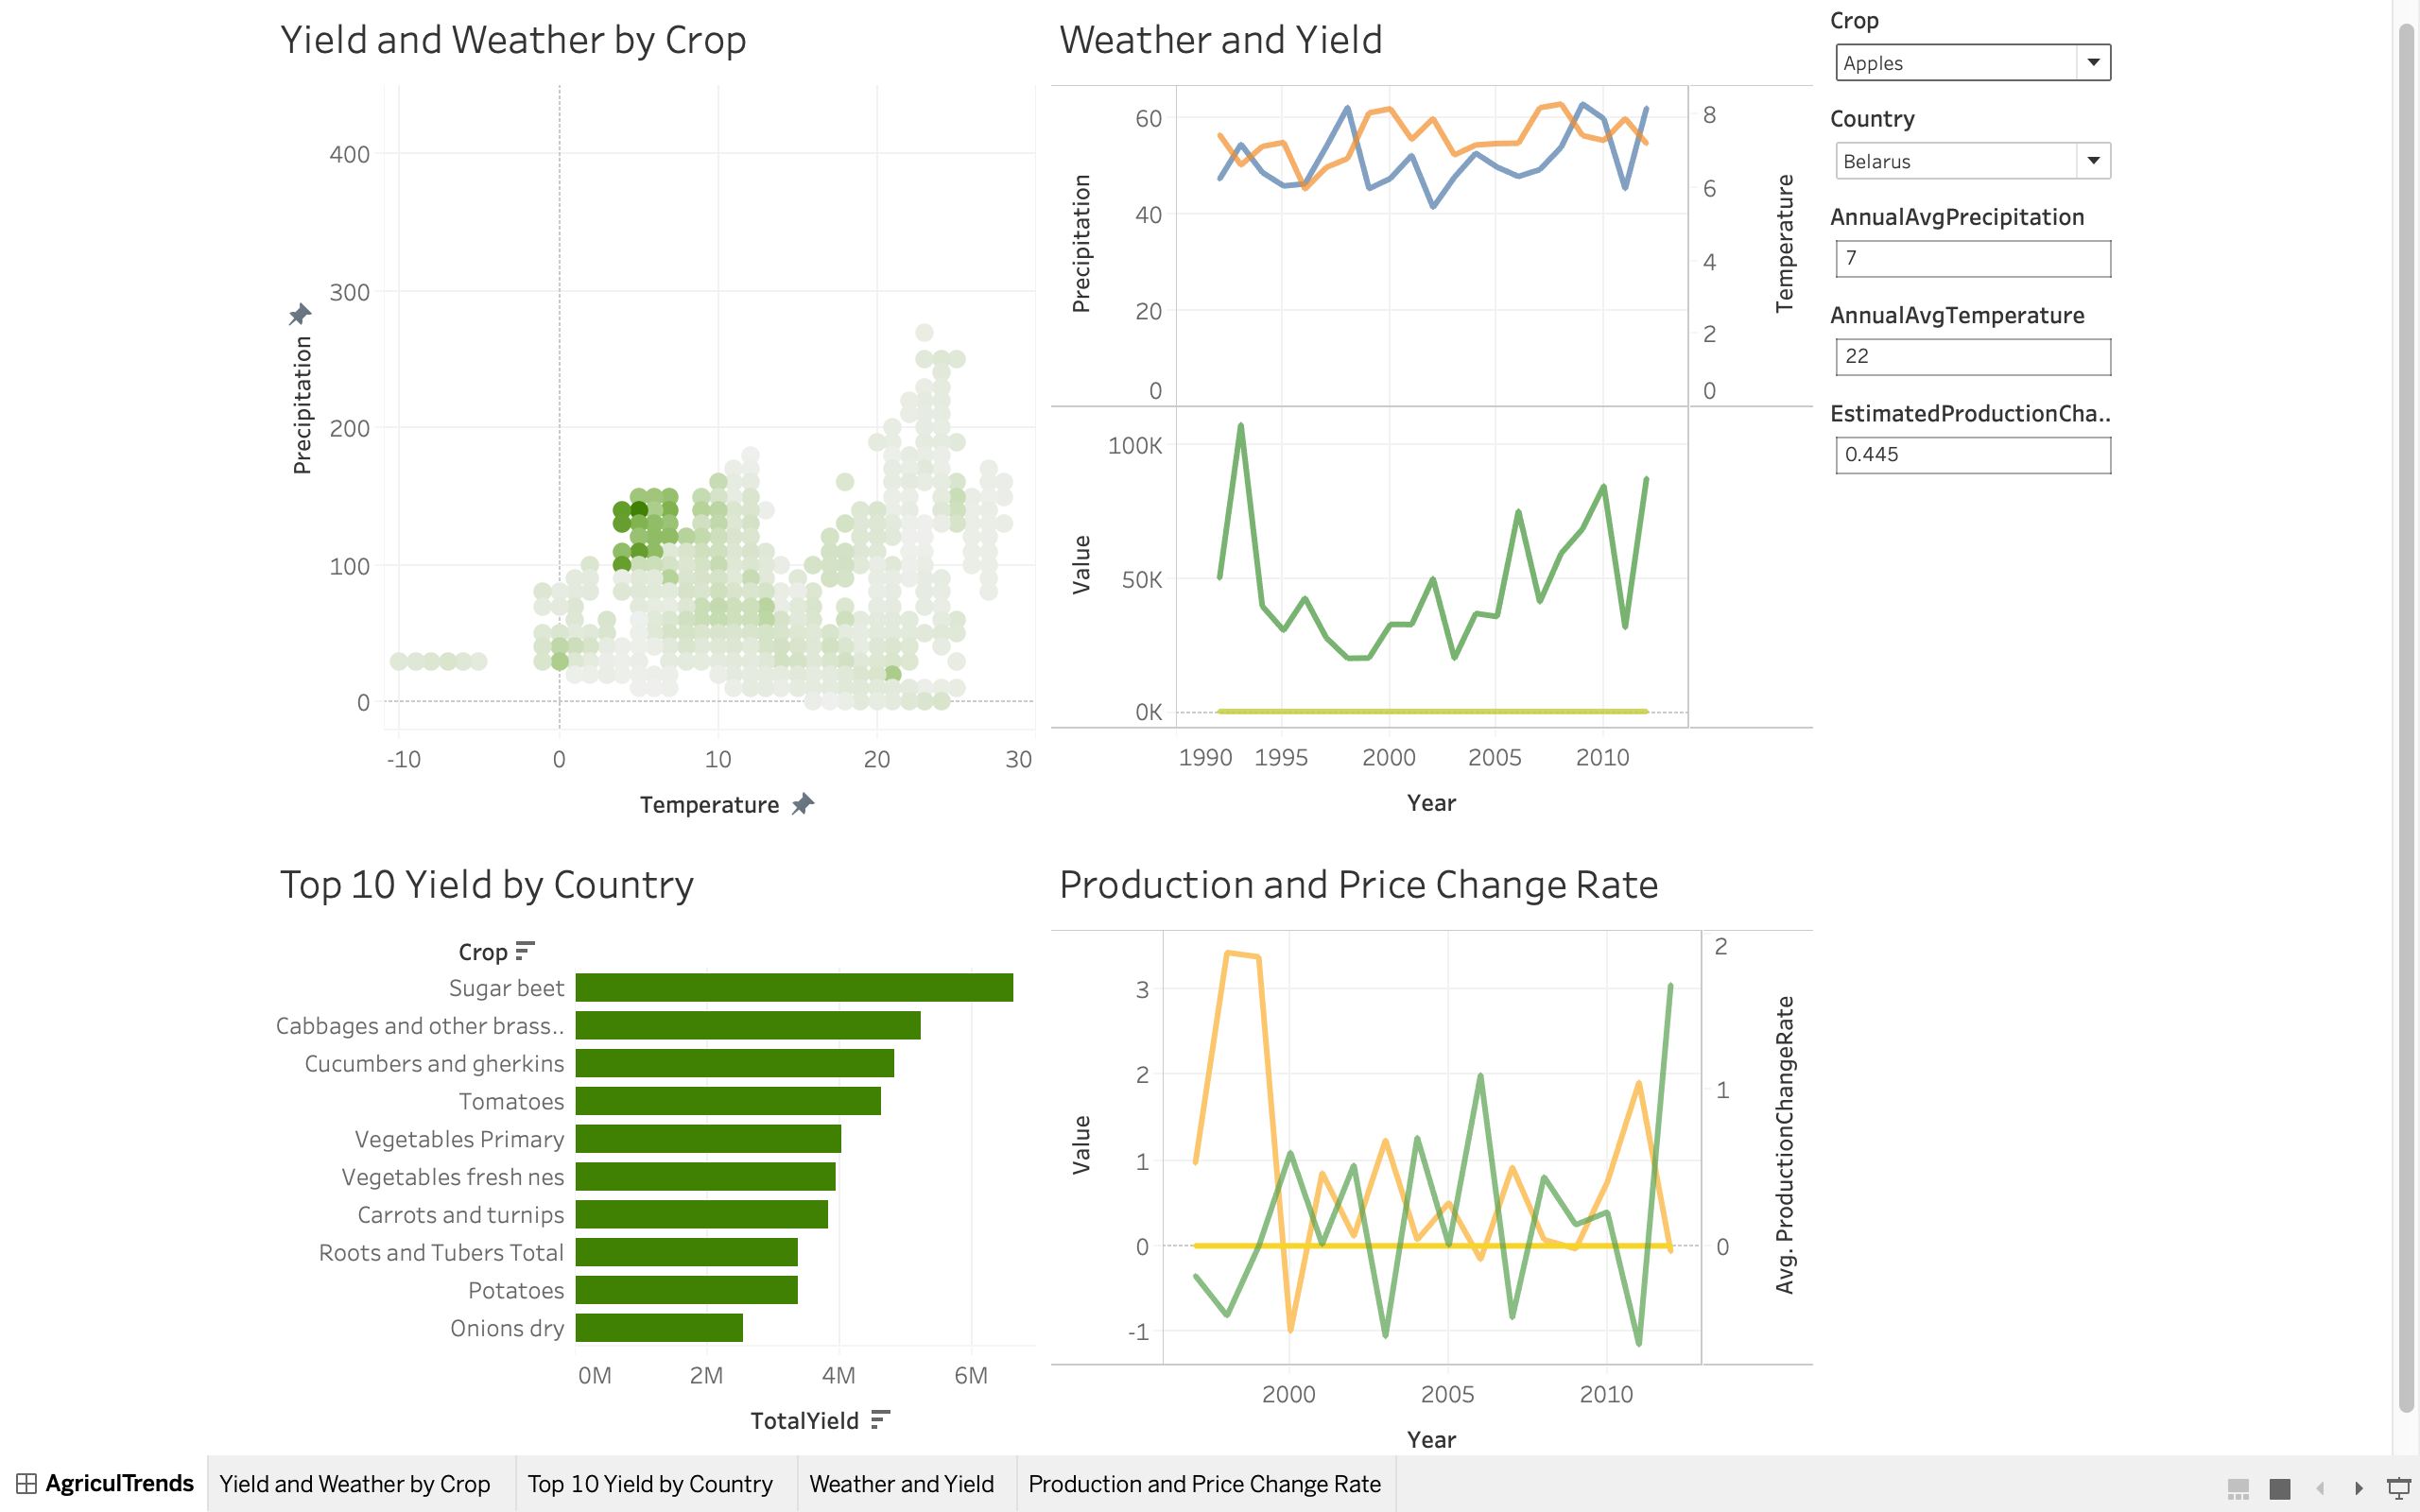

What the dashboard file says about the page in this screenshot:
{"tool":"tableau","page":{"name":"AgriculTrends","canvas":[1000,800],"ordinal":0},"visuals":[{"type":"worksheet","title":"Yield and Weather by Crop","mark":"Automatic","rows":["agricultrendsyieldheatmap.roundprecipitation"],"cols":["agricultrendsyieldheatmap.roundtemperature"],"box":[8,8,412,447]},{"type":"worksheet","title":"Weather and Yield","mark":"Automatic","rows":["agricultrendsaggregation.precipitation","agricultrendsaggregation.temperature"],"cols":["agricultrendsaggregation.year"],"box":[420,8,412,447]},{"type":"filter","title":"Weather and Yield","param":"[federated.0wcf39h0b6aiu71asfct21mhd5nb].[none:agricultrendsaggregation.crop:nk]","box":[832,8,160,52]},{"type":"filter","title":"Weather and Yield","param":"[federated.0wcf39h0b6aiu71asfct21mhd5nb].[none:agricultrendsaggregation.country:","box":[832,60,160,52]},{"type":"parameter","param":"[Parameters].[Parameter 1]","box":[832,112,160,52]},{"type":"parameter","param":"[Parameters].[Parameter 2]","box":[832,164,160,52]},{"type":"parameter","param":"[Parameters].[Parameter 3]","box":[832,216,160,52]},{"type":"worksheet","title":"Top 10 Yield by Country","mark":"Automatic","rows":["agricultrendstop10yield.crop"],"cols":["agricultrendstop10yield.totalyield"],"box":[8,455,412,337]},{"type":"worksheet","title":"Production and Price Change Rate","mark":"Automatic","rows":["agricultrendschangerate.productionchangerate"],"cols":["agricultrendschangerate.year"],"box":[420,455,412,337]}]}

Visuals, with their boxes on the page's 1000x800 design canvas (x1, y1, x2, y2). These are canvas units, not pixel positions in the 2420x1512 screenshot, which may show the page scaled, cropped or inside an application window:
"Yield and Weather by Crop" worksheet: region(8, 8, 420, 455)
"Weather and Yield" worksheet: region(420, 8, 832, 455)
"Weather and Yield" filter: region(832, 8, 992, 60)
"Weather and Yield" filter: region(832, 60, 992, 112)
parameter: region(832, 112, 992, 164)
parameter: region(832, 164, 992, 216)
parameter: region(832, 216, 992, 268)
"Top 10 Yield by Country" worksheet: region(8, 455, 420, 792)
"Production and Price Change Rate" worksheet: region(420, 455, 832, 792)
